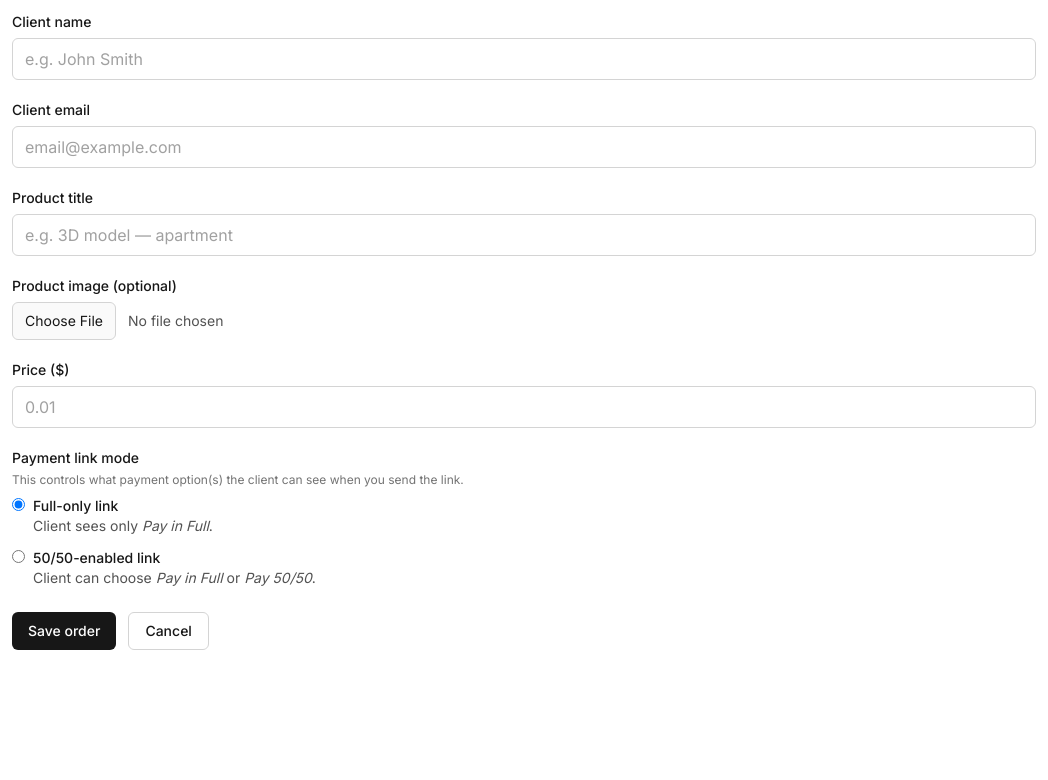
Test case: OrderNewForm › shows lead email suggestions on click when lead emails are provided
This screenshot has width=1048, height=780.
What coordinates should you click on to do the following:
click the dropdown
I would click on:
 (524, 147)
Its box is [12, 126, 1036, 168].
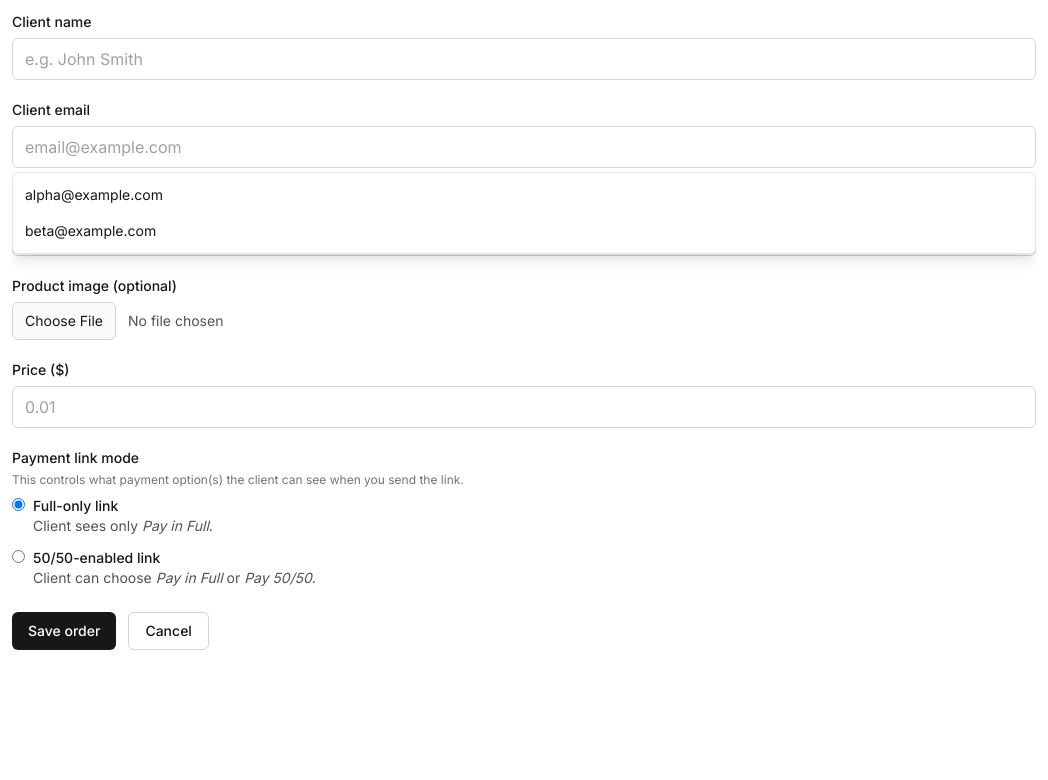
expect the list is shown: met, box [12, 172, 1036, 254]
expect the option "alpha@example.com" is shown: met, box [13, 177, 1035, 213]
